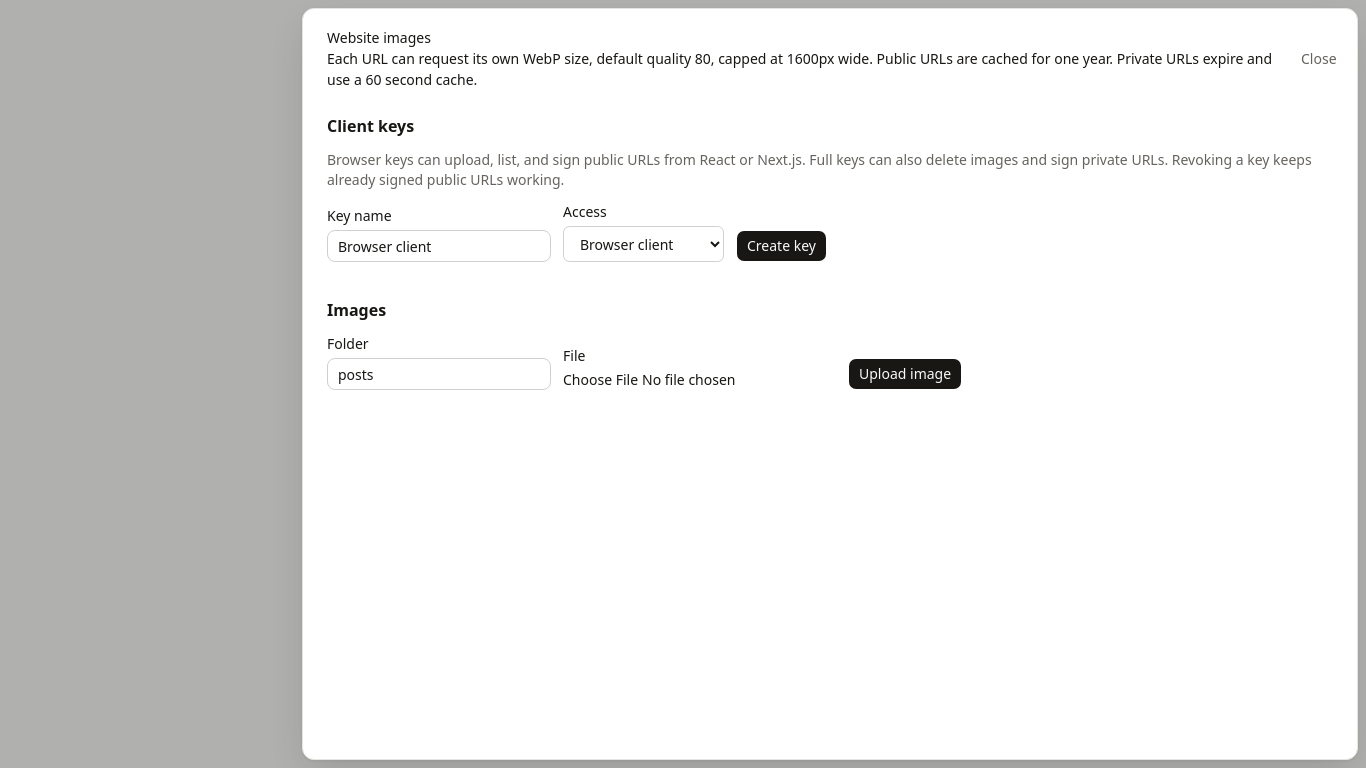
Test case: ImageStoreWorkspace › creates a browser key, shows the secret once, and revokes it
Expected: the heading "Website images" is shown, [327,28,431,47]
Expected: the text "cached for one year" is shown, [327,49,1272,89]
What coordinates should you click on to do the following:
click the button "Create key"
I would click on:
 (781, 246)
Its box is [736,230,827,262].
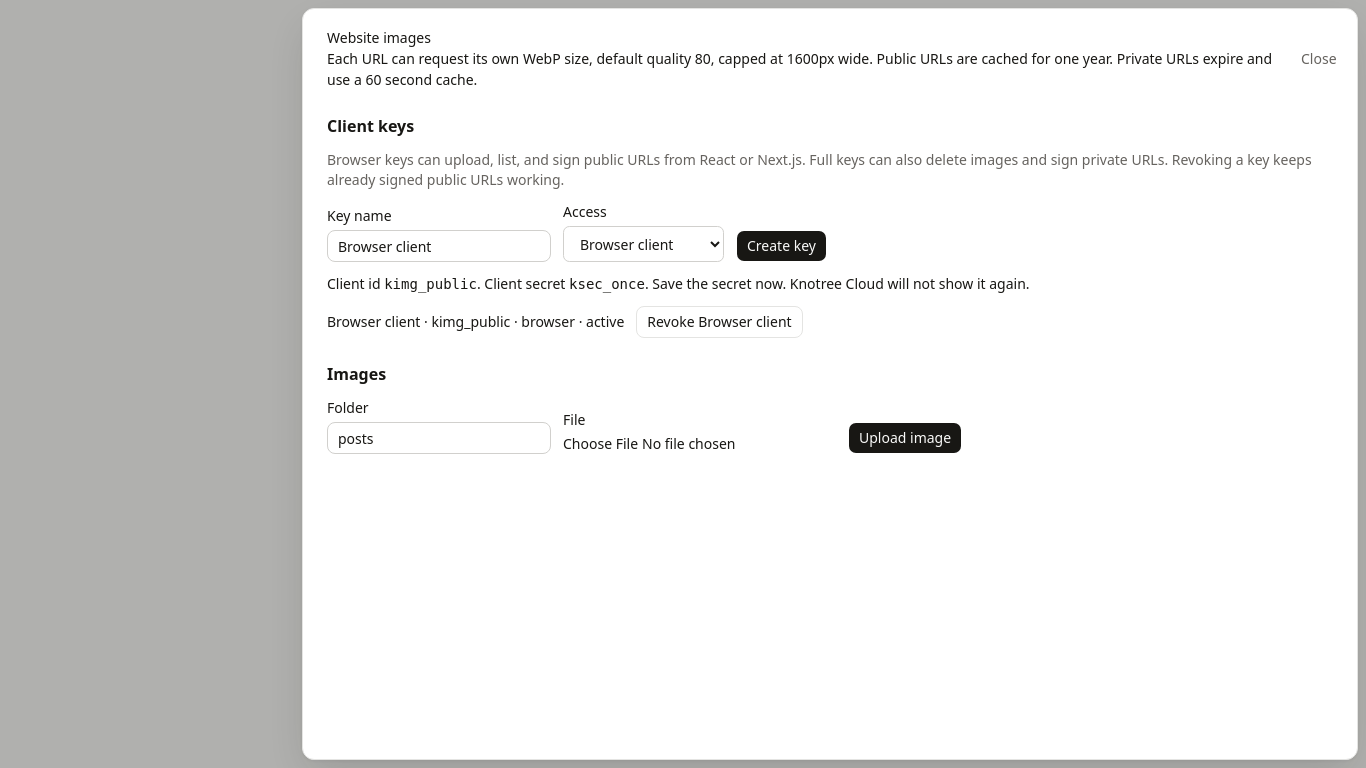
Expected: the text "ksec_once" is shown, [569,276,645,292]
Expected: the text "kimg_public" is shown, [384,276,477,292]
What coordinates should you click on to do the following:
click the button "Revoke Browser client"
I would click on:
 (719, 322)
Its box is [636,306,803,338].
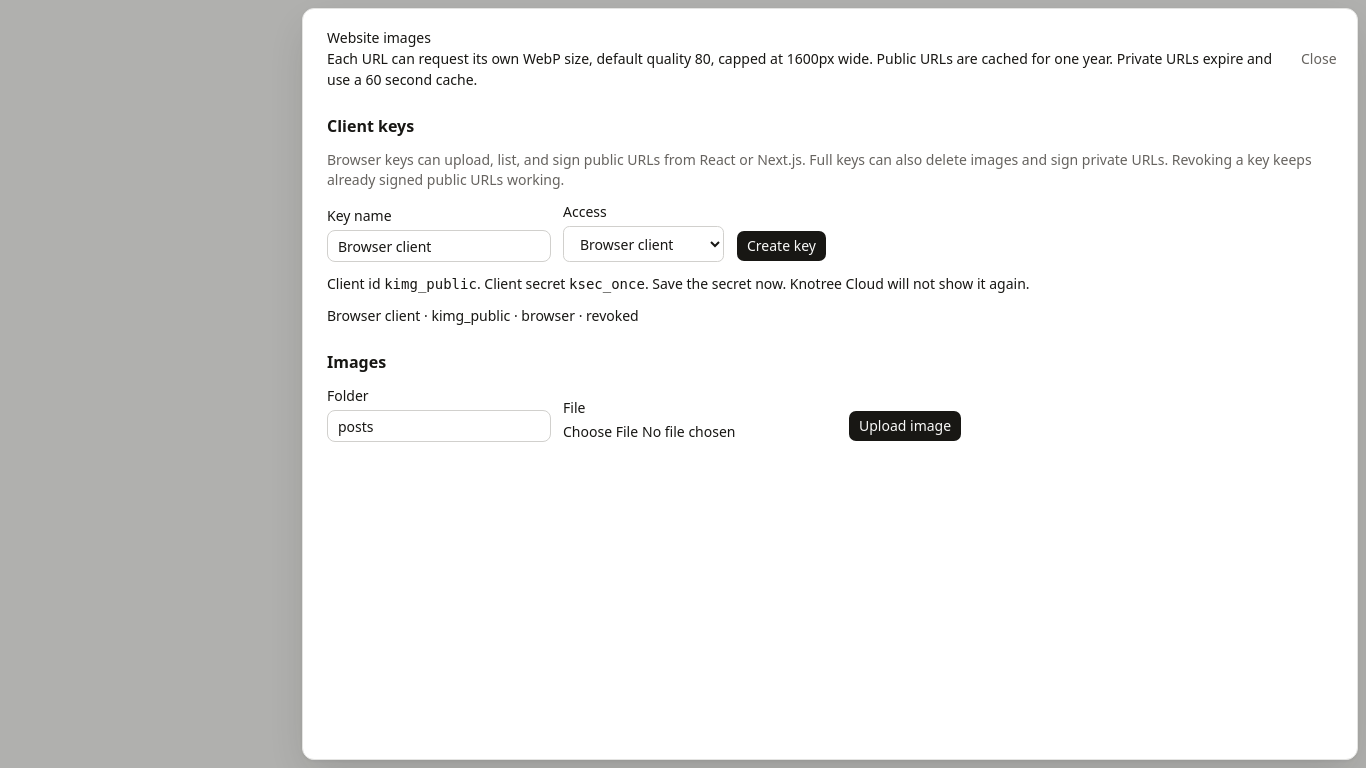
Expected: the text "Browser client · kimg_public · browser · revoked" is shown, [327,306,639,326]
Expected: the button "Revoke Browser client" is gone
